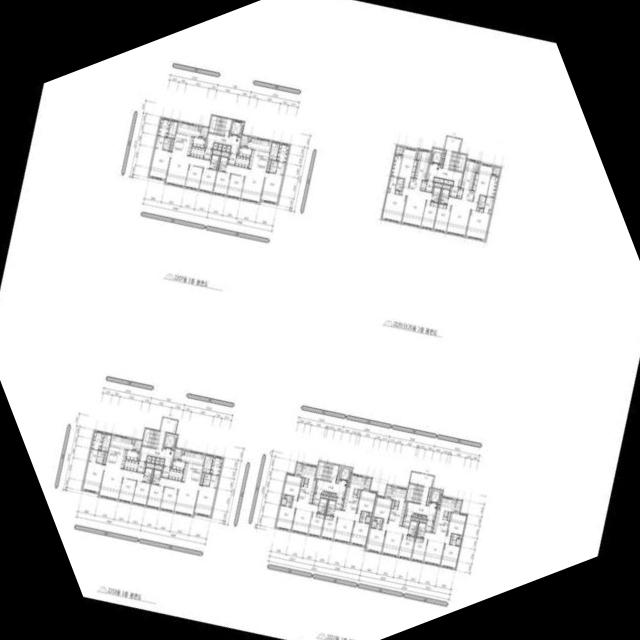background: (0, 0, 640, 640)
space_bedroom: (381, 190, 406, 222), (465, 208, 490, 240), (472, 164, 493, 202), (148, 148, 171, 180), (398, 147, 416, 187), (260, 172, 283, 203), (82, 461, 104, 493), (194, 485, 216, 516), (372, 496, 392, 523), (433, 203, 451, 232), (420, 201, 438, 229), (275, 505, 295, 530), (440, 544, 460, 569), (365, 528, 385, 553), (282, 474, 301, 500), (356, 490, 376, 514), (446, 512, 466, 536), (350, 521, 369, 546), (146, 484, 164, 508), (118, 478, 136, 502), (184, 165, 202, 189), (198, 168, 216, 192), (212, 171, 230, 195), (226, 174, 244, 198), (307, 512, 324, 536), (160, 487, 177, 511), (320, 515, 337, 539), (132, 481, 149, 505), (398, 535, 414, 559), (411, 538, 427, 562)
space_dressroom: (209, 456, 223, 475), (390, 155, 402, 177), (486, 176, 498, 197), (90, 431, 103, 450), (276, 143, 289, 162), (157, 118, 170, 137), (387, 176, 397, 194), (483, 197, 493, 214)
space_elevator: (163, 433, 177, 449), (229, 120, 243, 136), (429, 148, 443, 164), (429, 489, 442, 504), (339, 467, 351, 481)
space_elevator_hall: (138, 418, 177, 466), (426, 136, 462, 186), (405, 472, 436, 520), (315, 465, 346, 498), (205, 133, 240, 153)
space_front: (168, 468, 183, 481), (234, 155, 249, 168), (123, 459, 138, 471), (190, 146, 204, 158), (448, 186, 458, 197), (425, 520, 434, 532), (402, 515, 411, 527), (137, 461, 146, 473), (160, 466, 169, 478), (227, 153, 236, 165), (203, 148, 212, 160), (425, 181, 434, 192), (312, 493, 320, 505), (335, 498, 343, 509)
space_kitchen: (408, 149, 431, 191), (105, 435, 133, 469), (172, 122, 200, 156), (432, 497, 456, 536), (342, 474, 366, 513), (180, 450, 205, 485), (247, 137, 271, 172), (460, 159, 479, 202), (388, 486, 407, 526), (297, 464, 316, 503), (125, 450, 138, 461), (171, 460, 184, 471), (192, 137, 205, 148), (238, 147, 251, 158)
space_living_room: (225, 164, 265, 203), (158, 477, 198, 516), (98, 466, 143, 500), (165, 153, 210, 187), (446, 197, 477, 236), (401, 187, 432, 226), (291, 500, 318, 534), (333, 509, 360, 543), (381, 523, 408, 556), (423, 532, 450, 565)
space_other: (100, 433, 111, 451), (202, 455, 212, 473), (167, 120, 177, 138), (269, 142, 279, 160), (426, 488, 431, 505), (456, 187, 463, 199), (336, 466, 341, 482), (420, 180, 426, 191), (443, 179, 453, 185), (433, 177, 443, 183), (169, 139, 173, 151), (103, 452, 107, 464), (266, 160, 270, 171), (200, 473, 204, 484), (154, 465, 162, 470), (220, 152, 228, 157), (212, 150, 220, 155), (476, 163, 480, 173), (434, 182, 442, 187), (442, 184, 450, 189), (146, 463, 153, 468), (356, 490, 360, 498), (300, 478, 304, 486), (320, 494, 328, 498), (410, 517, 418, 521), (328, 496, 336, 500), (440, 159, 444, 167), (150, 457, 155, 463), (159, 459, 164, 465), (212, 143, 217, 149), (221, 145, 226, 151), (217, 144, 222, 150), (155, 458, 160, 464), (146, 456, 151, 462), (419, 519, 426, 523), (415, 150, 418, 159), (447, 512, 450, 520), (391, 500, 394, 508), (226, 146, 230, 152), (442, 151, 445, 159), (331, 493, 336, 496), (322, 491, 327, 494), (281, 494, 284, 498), (459, 535, 462, 539), (327, 492, 331, 495), (181, 450, 184, 454), (248, 137, 251, 141), (387, 188, 390, 192), (476, 207, 479, 211), (421, 516, 426, 518), (369, 513, 372, 516), (372, 517, 375, 520), (488, 210, 491, 213), (417, 515, 421, 517), (413, 514, 417, 516), (436, 505, 439, 507), (399, 191, 401, 194), (346, 483, 348, 485)
space_outdoor_room: (173, 448, 182, 460), (199, 127, 208, 138), (294, 463, 302, 475), (240, 135, 248, 147), (364, 477, 371, 490), (385, 485, 392, 498), (454, 500, 461, 513), (133, 440, 141, 451), (492, 167, 500, 176), (395, 146, 403, 155)
space_staircase: (208, 116, 231, 136), (315, 462, 333, 481), (405, 484, 423, 503), (142, 429, 160, 448), (448, 152, 466, 171)
space_toilet: (151, 469, 161, 485), (407, 520, 417, 536), (416, 522, 426, 537), (317, 498, 327, 513), (142, 468, 152, 483), (439, 189, 449, 204), (209, 155, 219, 170), (209, 474, 219, 488), (275, 161, 285, 175), (326, 500, 335, 515), (218, 156, 227, 171), (431, 187, 440, 202), (88, 449, 98, 462), (155, 136, 164, 149), (449, 534, 459, 545), (359, 511, 369, 522), (375, 517, 383, 529), (285, 495, 292, 507), (268, 166, 276, 173), (396, 178, 404, 185), (477, 201, 485, 208), (478, 195, 486, 202), (395, 184, 403, 191), (162, 143, 170, 150), (203, 473, 211, 480), (202, 479, 210, 486), (96, 456, 103, 463), (270, 160, 277, 167), (163, 138, 171, 144), (97, 451, 104, 457), (455, 538, 460, 546), (281, 498, 286, 505), (365, 516, 370, 523), (371, 521, 376, 528)
